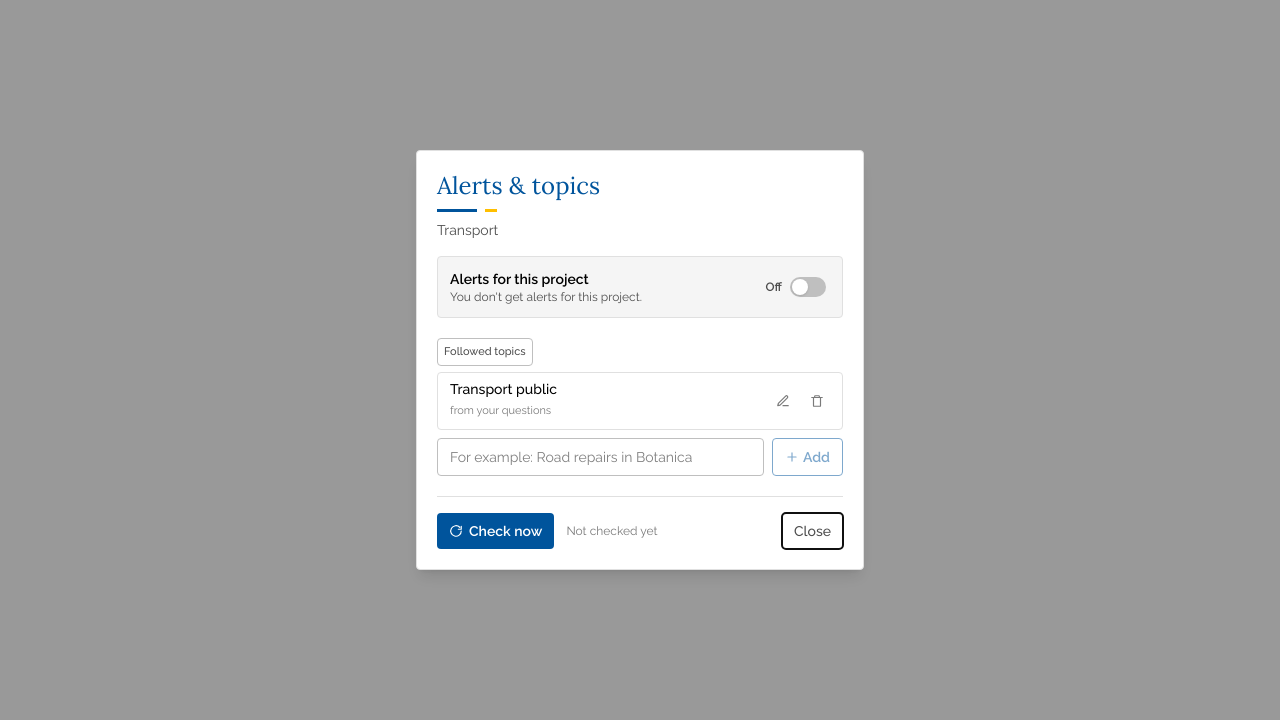
Scenario: AlertsDialog › adds, renames and removes topics
Expected: the text "Transport public" is shown, [450, 381, 557, 397]
Expected: the text "from your questions" is shown, [450, 404, 551, 417]
Step 1. Type "  Parks  " into the field named "Topic name" → (600, 457), box [437, 438, 764, 476]
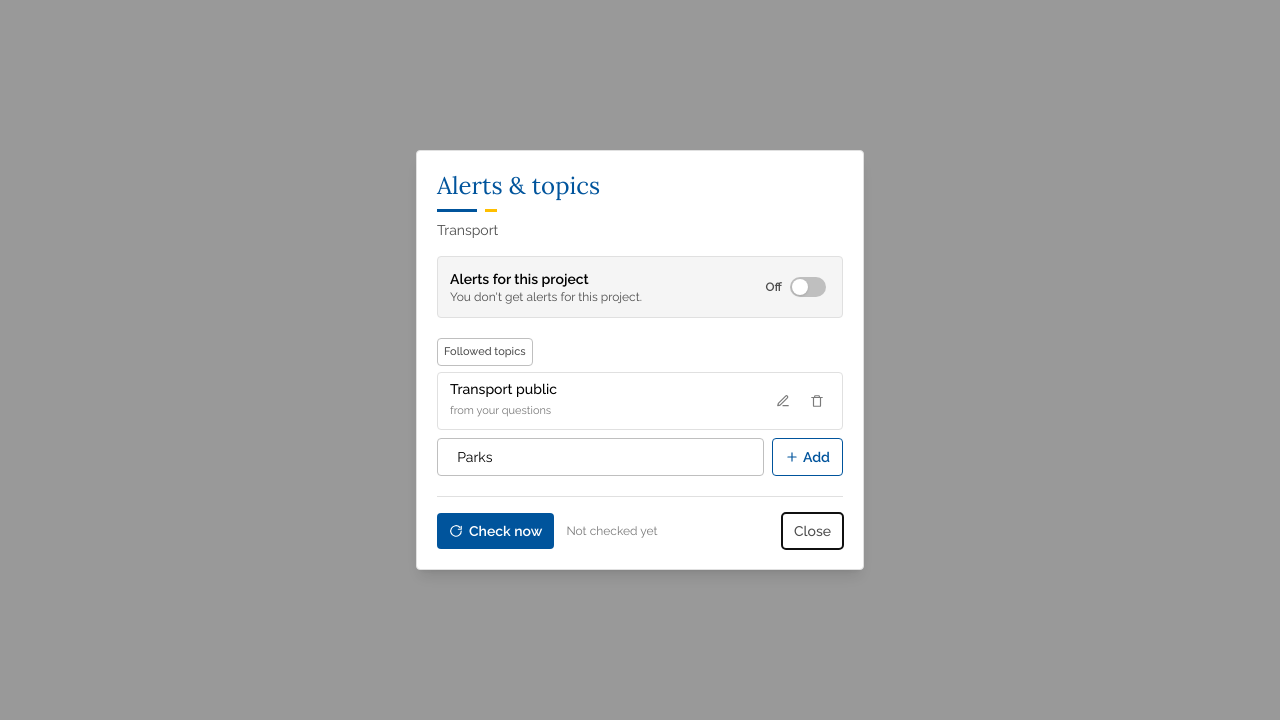
Step 2. Click the button "Add" → (807, 457), box [772, 438, 843, 476]
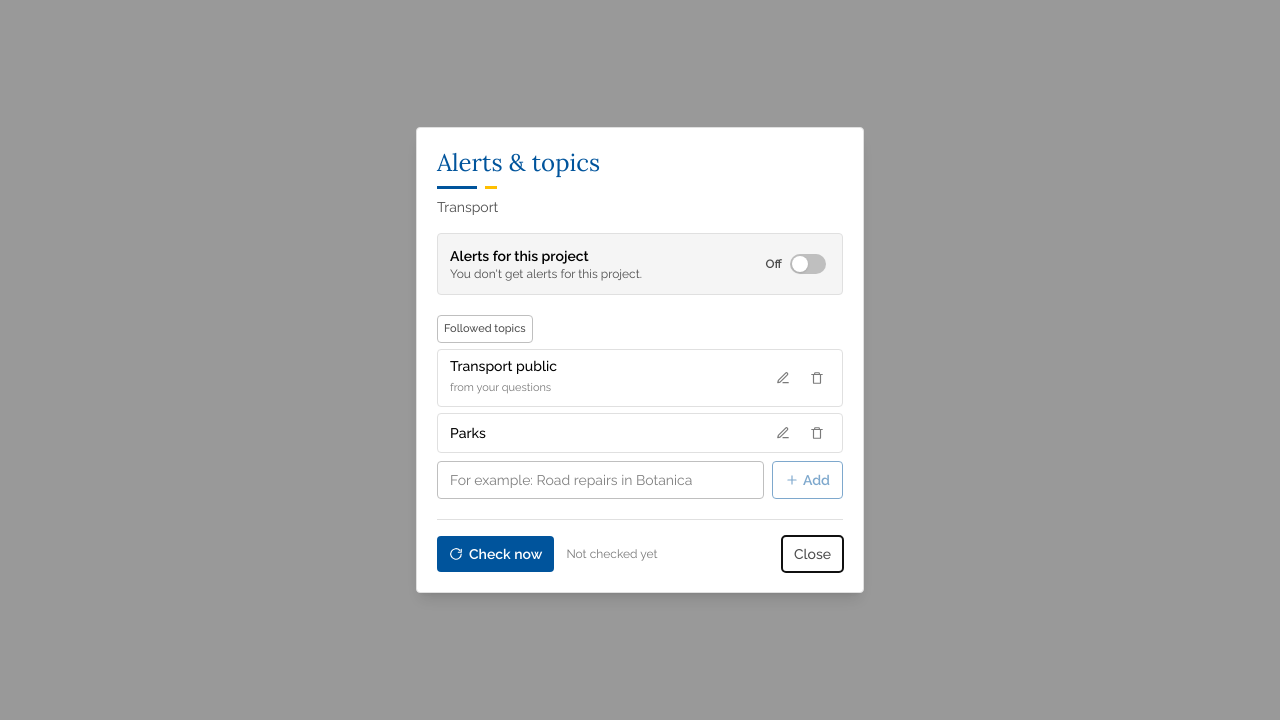
Now the text "Parks" is shown, box [450, 425, 486, 441]
Now the field named "Topic name" is empty, box [437, 461, 764, 499]
Step 3. Click the button named "Rename topic \"Transport public\"" → (783, 378), box [770, 365, 796, 391]
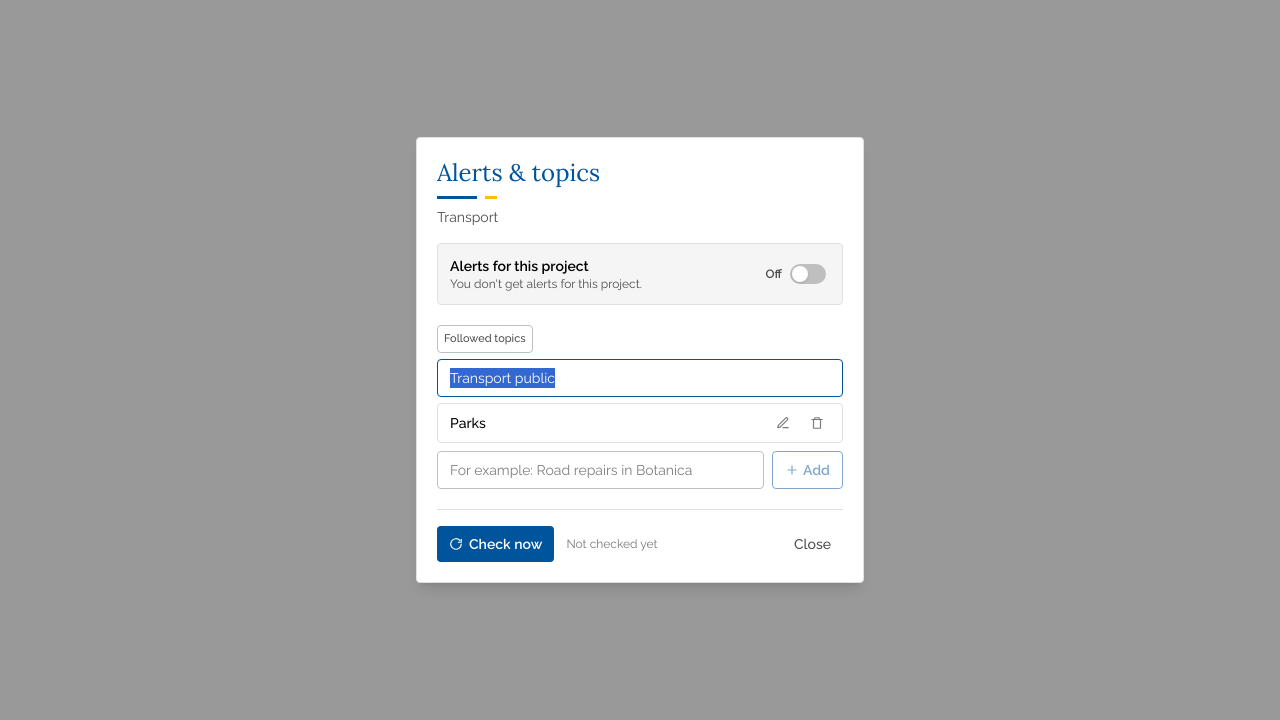
Step 4. Replace the text in the field named "Topic name" with "Trolleybuses" → (640, 378), box [437, 359, 843, 397]
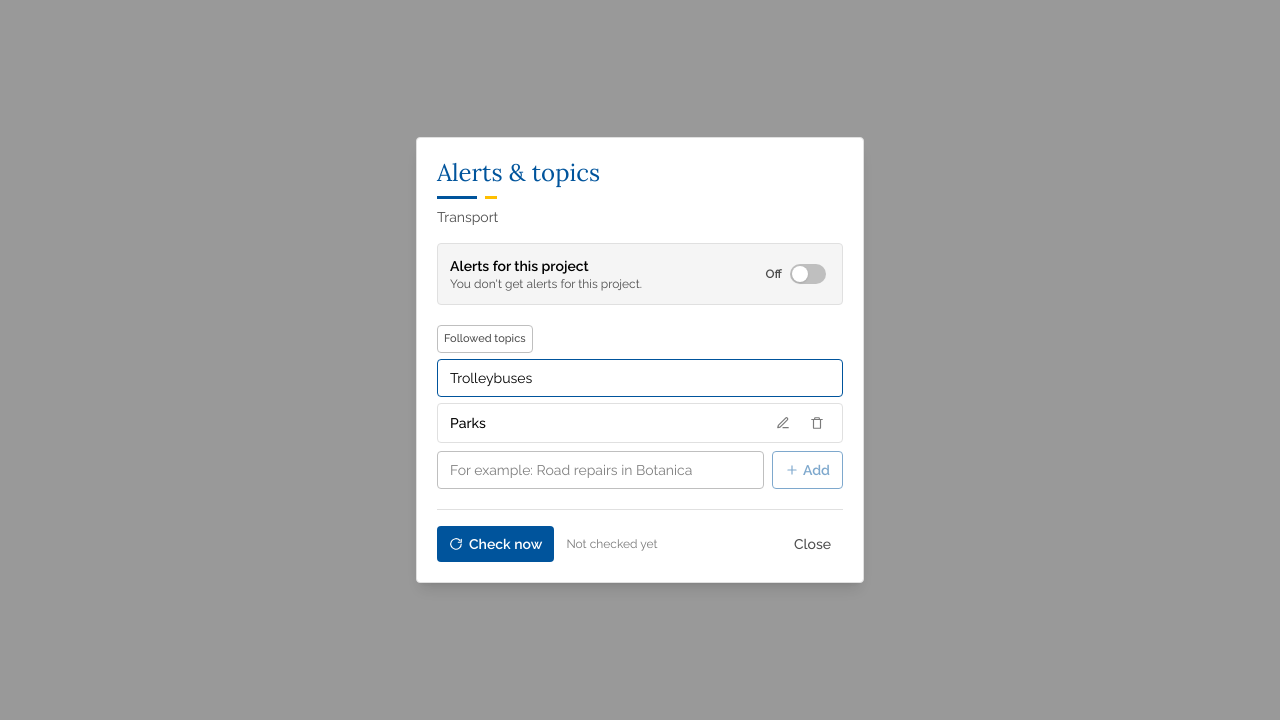
Step 5. Press Enter in the field named "Topic name", box [437, 359, 843, 397]
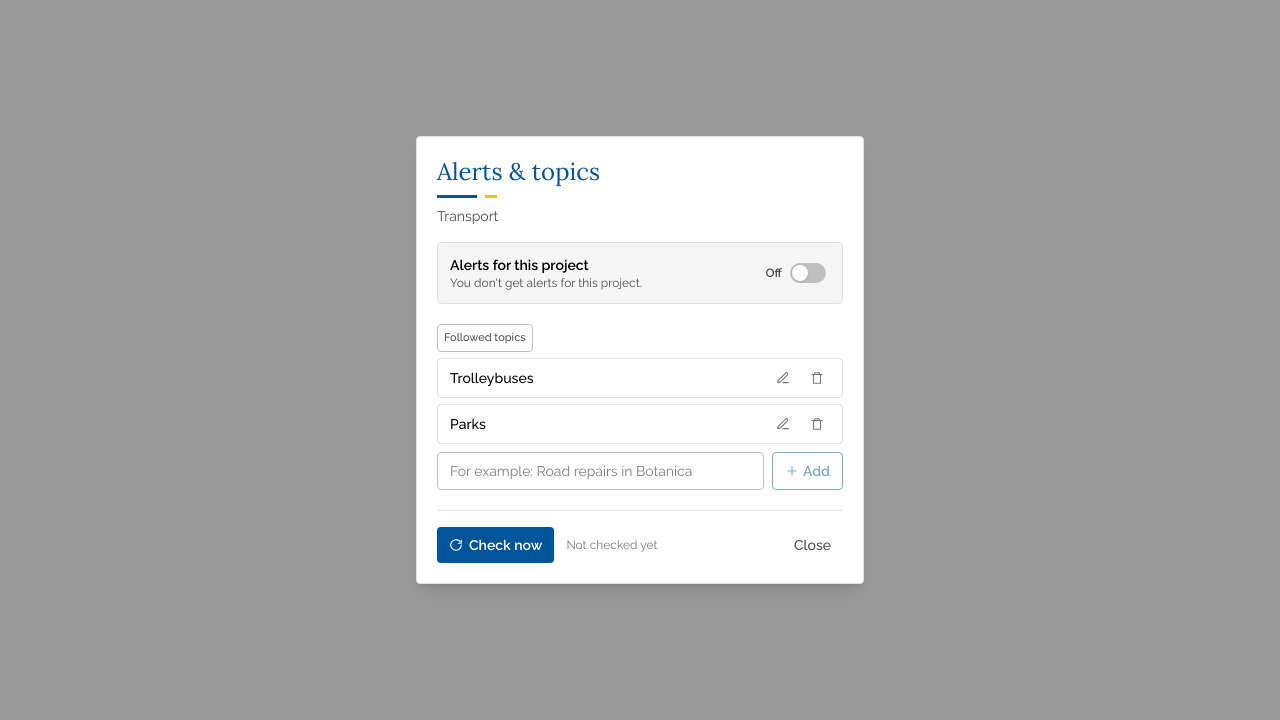
Now the text "Trolleybuses" is shown, box [450, 370, 534, 386]
Step 6. Click the button named "Remove topic \"Parks\"" → (817, 424), box [804, 411, 830, 437]
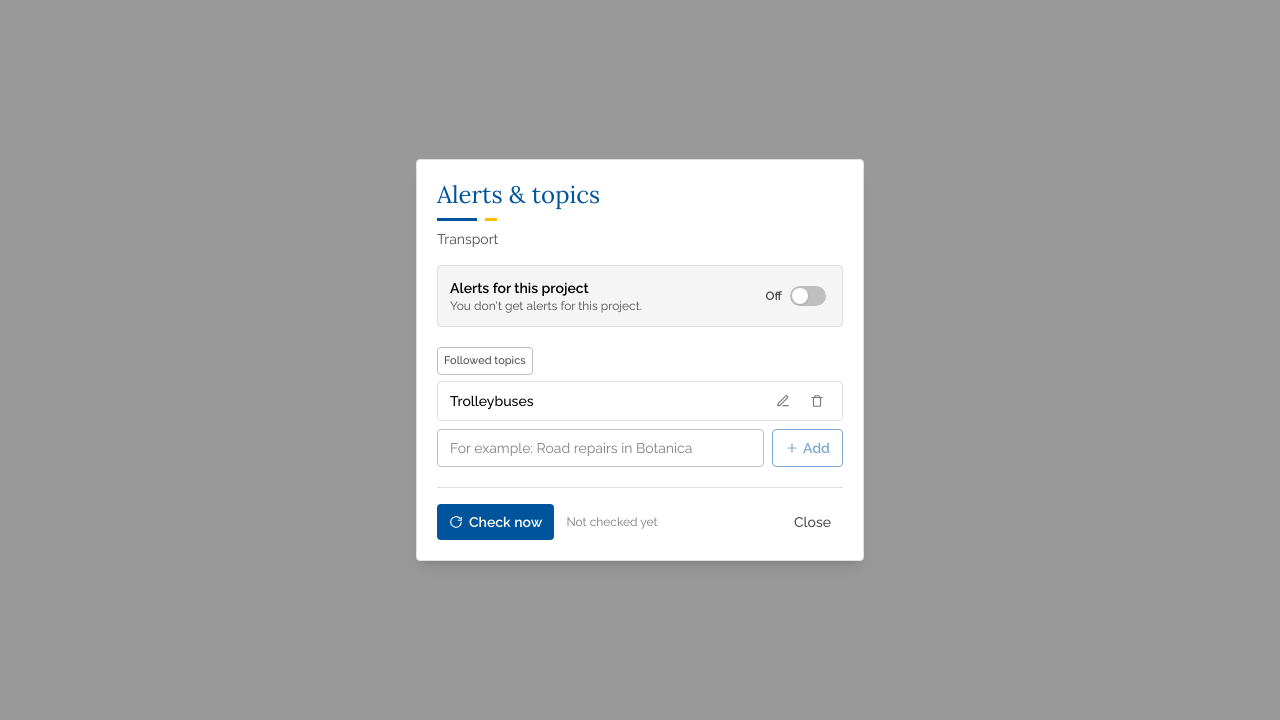
Expected: the text "from your questions" is not shown
Now the text "Parks" is gone
